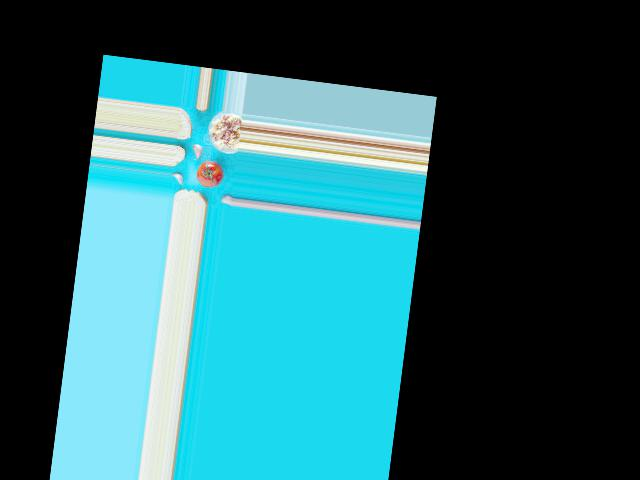tomato: (195, 160, 225, 189)
